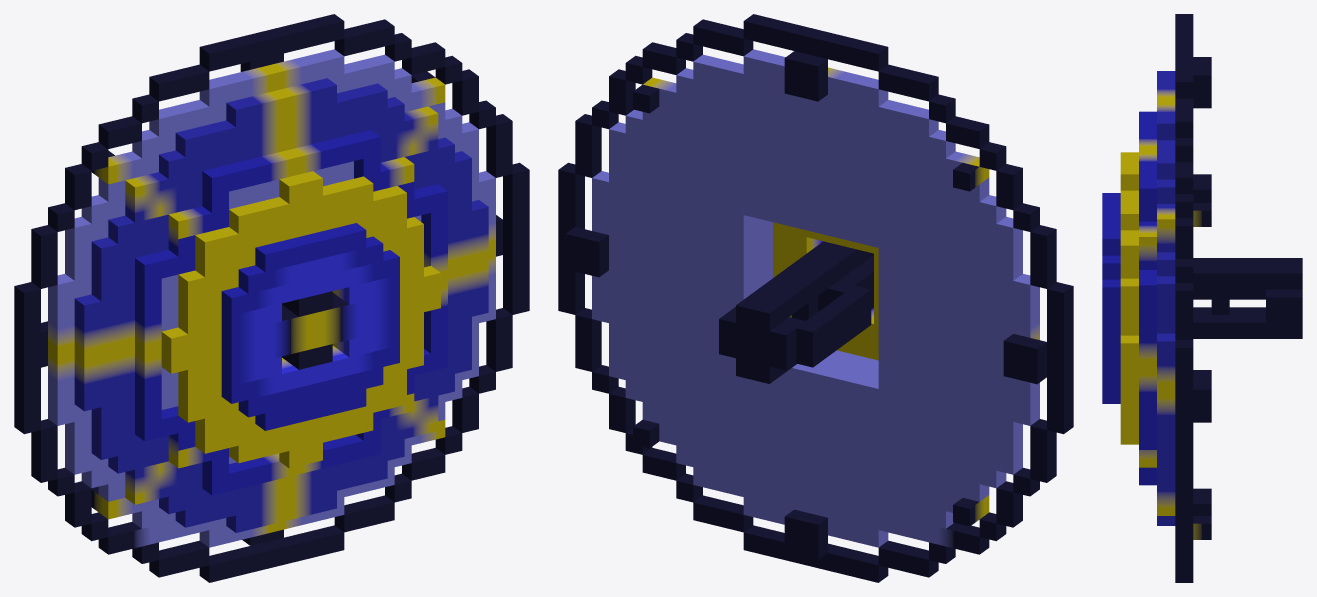
File: Shield.fbx
3 renders of one model, left to right at view 1: azimuth 30°, elevation 25°; view 2: azimuth 150°, elevation 25°; view 3: azimuth 270°, elevation 25°, orthographic. The views are drawn at different scales.
Parts seen in each view (by area): view 1: Cylinder; view 2: Cylinder; view 3: Cylinder.
Part boxes in pixels (x1=…): Cylinder: x1=14, y1=14, x2=529, y2=582; Cylinder: x1=558, y1=14, x2=1073, y2=582; Cylinder: x1=1102, y1=14, x2=1302, y2=582.
Bounding box in the file's own units: 30 × 30 × 11.
Materials: 1 (1 with a texture image).
